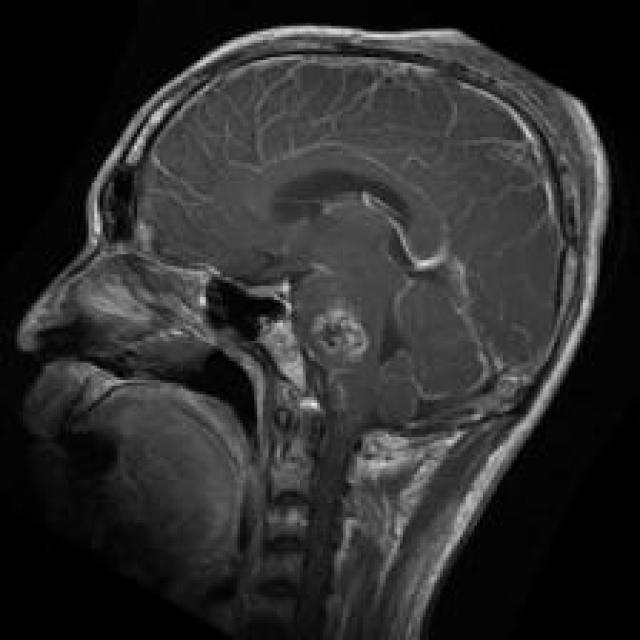glioma_tumor: (302, 294, 381, 381)
